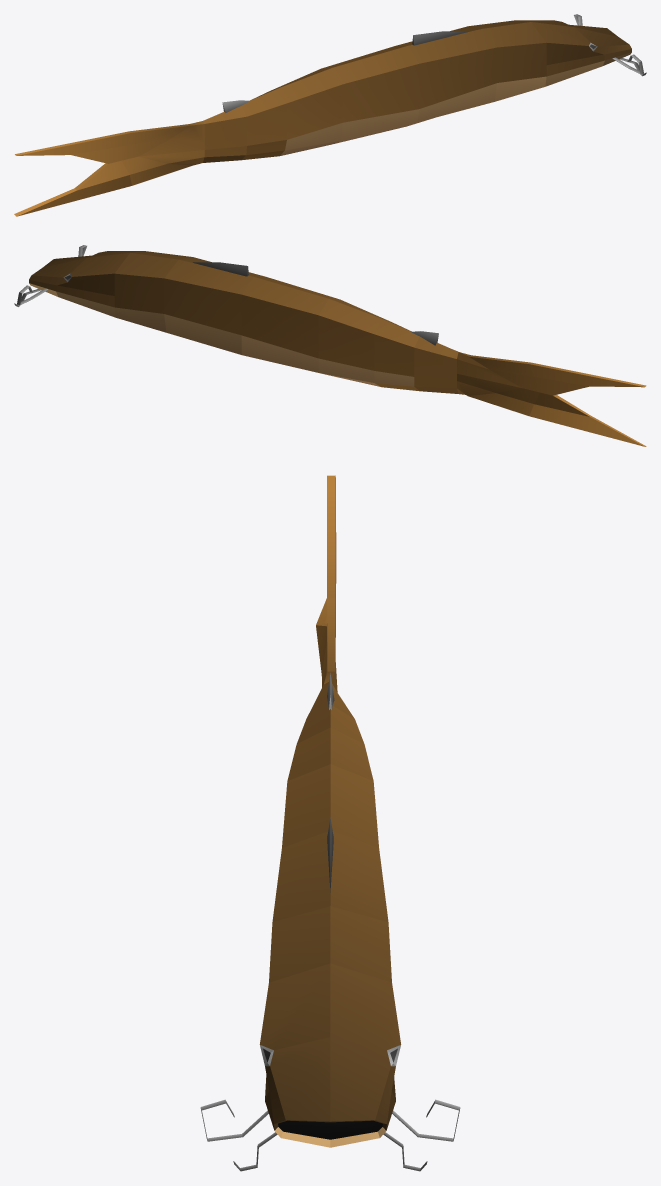
Rendered from SM_Cat_Fish.fbx.
3 renders of one model, top to bottom at view 1: azimuth 30°, elevation 25°; view 2: azimuth 150°, elevation 25°; view 3: azimuth 270°, elevation 25°, orthographic. The views are drawn at different scales.
Parts seen in each view (by area): view 1: Cat_Fish_body; view 2: Cat_Fish_body; view 3: Cat_Fish_body.
Boxes of the visible parts, x1,y1,x2,y2 form: Cat_Fish_body: (14, 14, 646, 216); Cat_Fish_body: (14, 245, 646, 446); Cat_Fish_body: (200, 475, 460, 1171).
Bounding box in the file's own units: 1.62 × 0.2284 × 0.2997.
